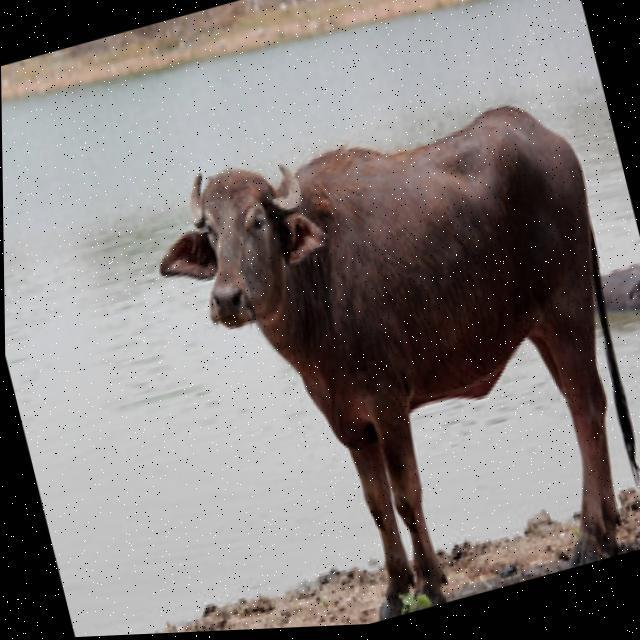Buffalo: (133, 62, 640, 634)
